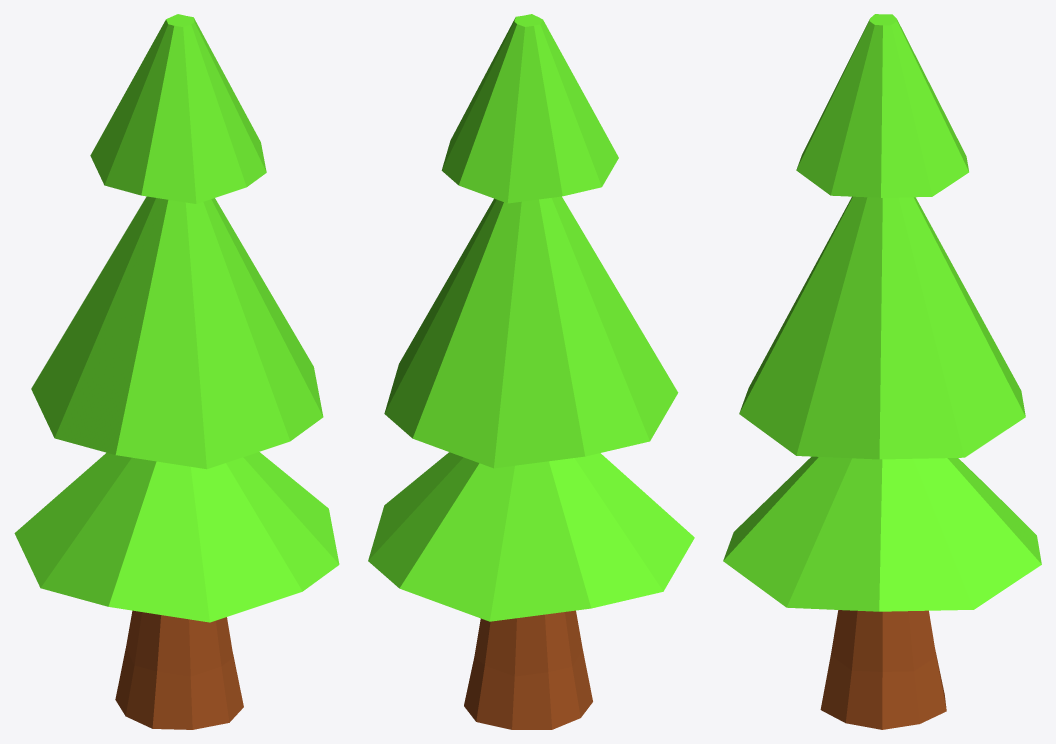
File: LowPolyTree.fbx
3 views of the same model, side by side, from view 1: azimuth 30°, elevation 25°; view 2: azimuth 150°, elevation 25°; view 3: azimuth 270°, elevation 25° (orthographic).
Parts seen in each view (by area): view 1: Icosphere.002_Icosphere.005; view 2: Icosphere.002_Icosphere.005; view 3: Icosphere.002_Icosphere.005.
Part boxes in pixels (bbox=[...]): Icosphere.002_Icosphere.005: bbox=[14, 14, 339, 729]; Icosphere.002_Icosphere.005: bbox=[368, 14, 694, 729]; Icosphere.002_Icosphere.005: bbox=[723, 14, 1041, 729].
Size of the model in its own units: 94.39 by 218 by 92.02.
